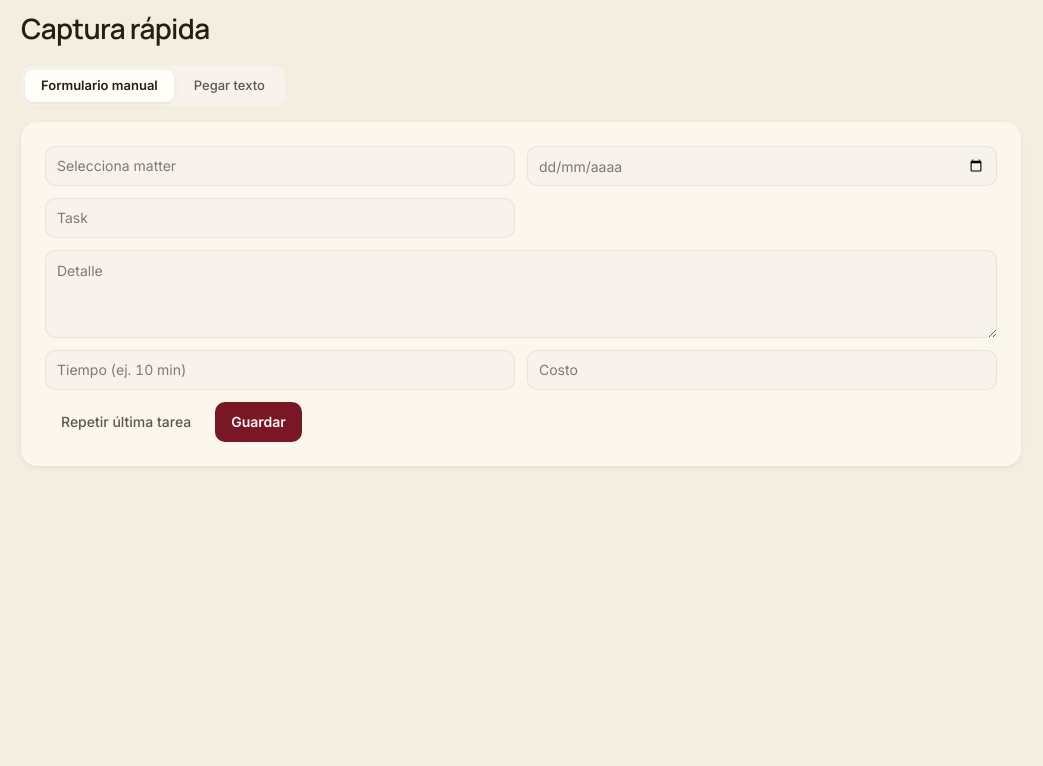
it: Home › paste mode: a new matter can be created straight from a parsed candidate
Click the button "Pegar texto".
click(229, 86)  # box x1=178 y1=70 x2=281 y2=102
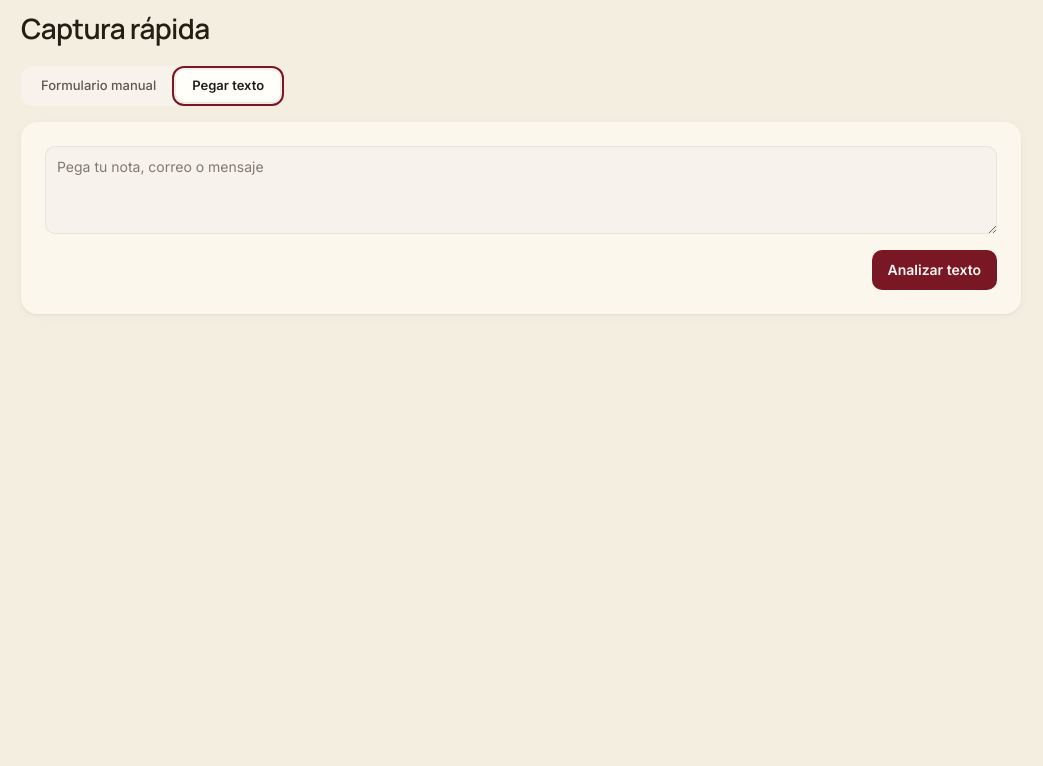
Type "Reviewed filing. July 21. 10 min" into the text box named "texto a pegar".
click(521, 190); type("Reviewed filing. July 21. 10 min")  # box x1=45 y1=146 x2=997 y2=234
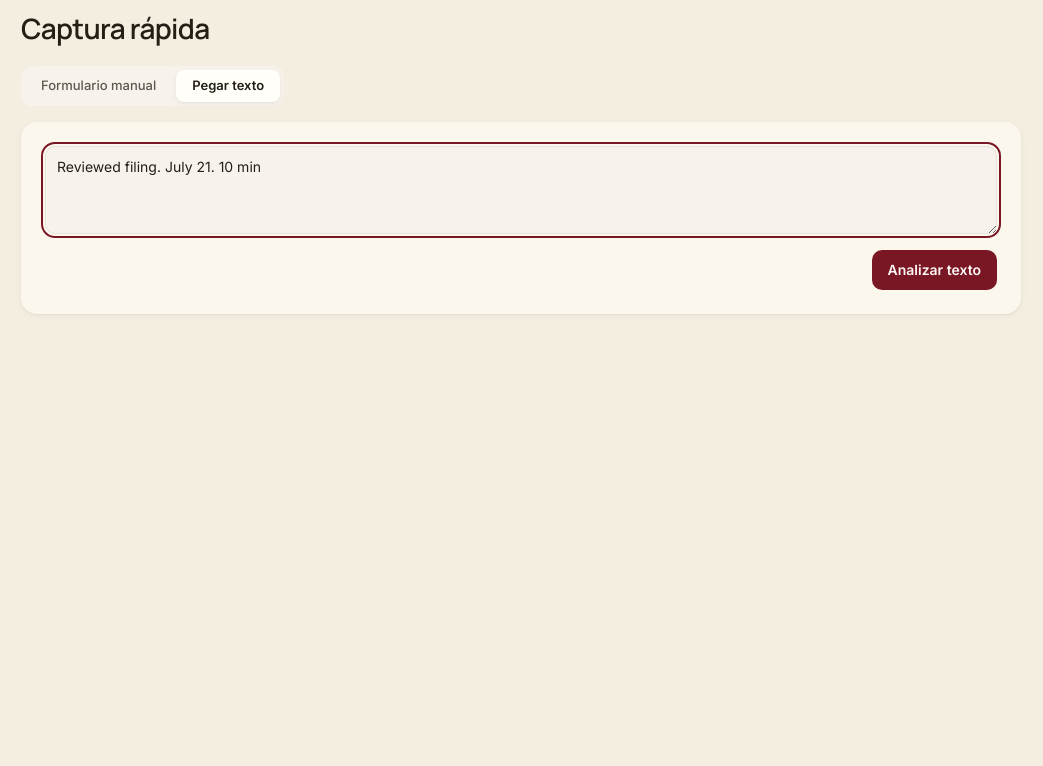
Click the button "Analizar texto".
click(934, 270)  # box x1=872 y1=250 x2=997 y2=290
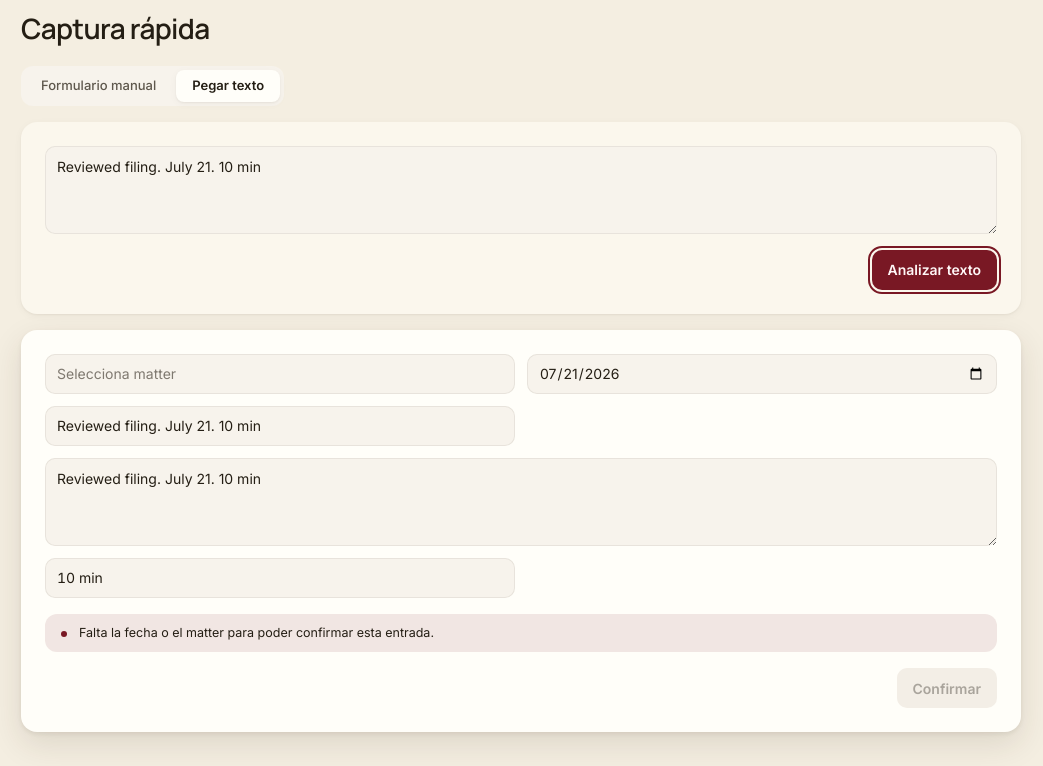
Type "Cliente Recien Llegado" into the dropdown named "matter sugerido 0".
click(280, 374); type("Cliente Recien Llegado")  # box x1=45 y1=354 x2=515 y2=394
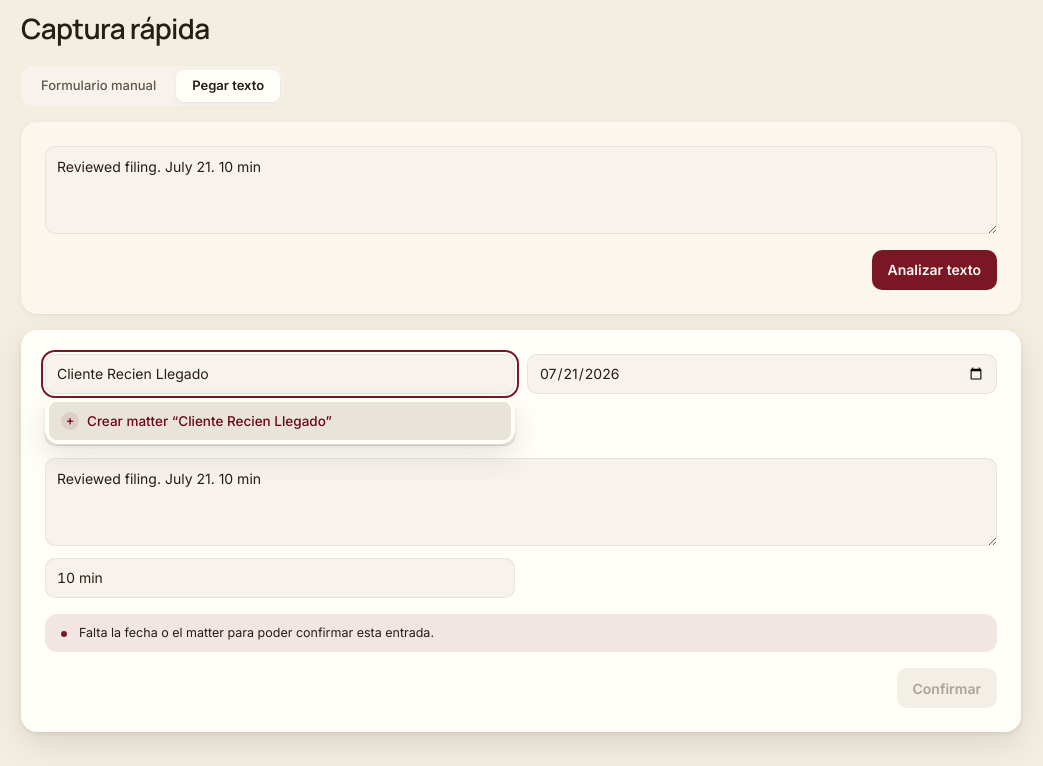
Click the option "+ Crear matter “Cliente Recien Llegado”".
click(280, 421)  # box x1=49 y1=402 x2=511 y2=440
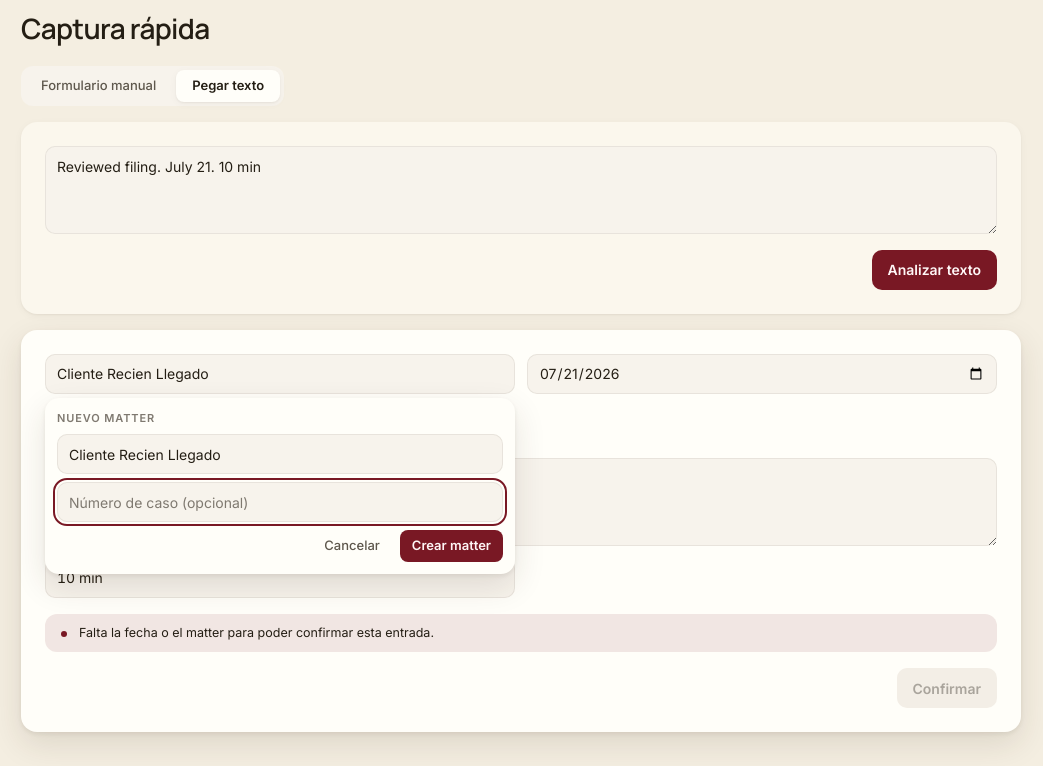
Click the button "Crear matter".
click(451, 546)  # box x1=400 y1=530 x2=503 y2=562
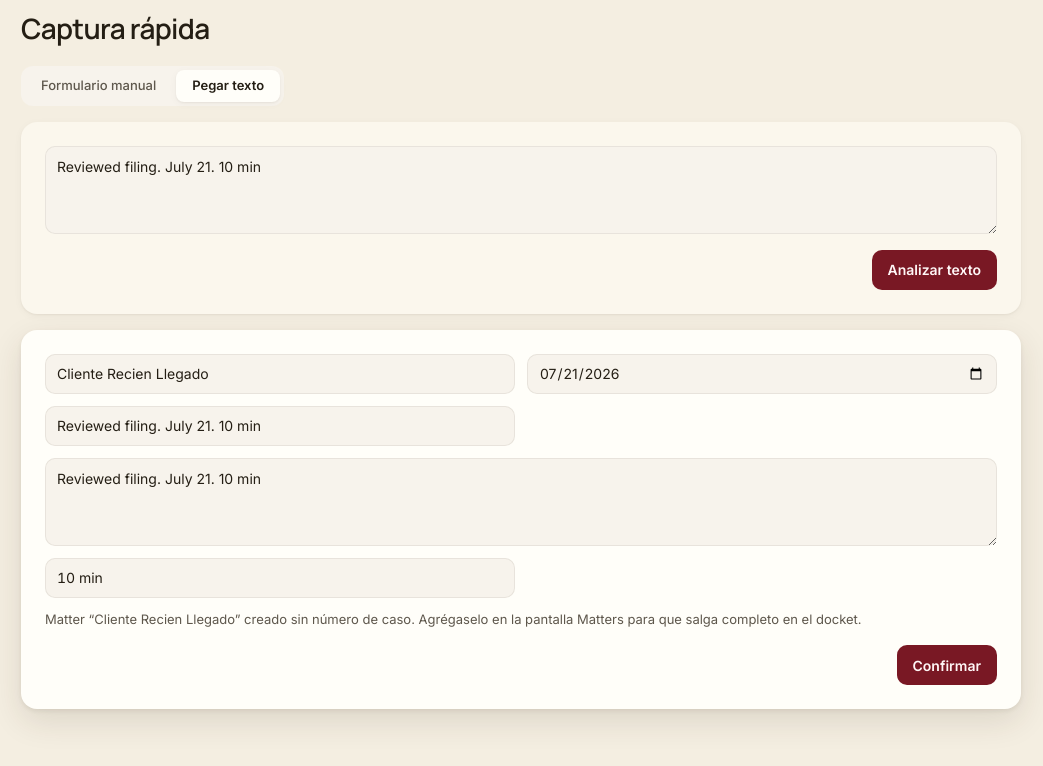
Expected: the message shows "sin número de caso", x1=235 y1=611 x2=862 y2=627
